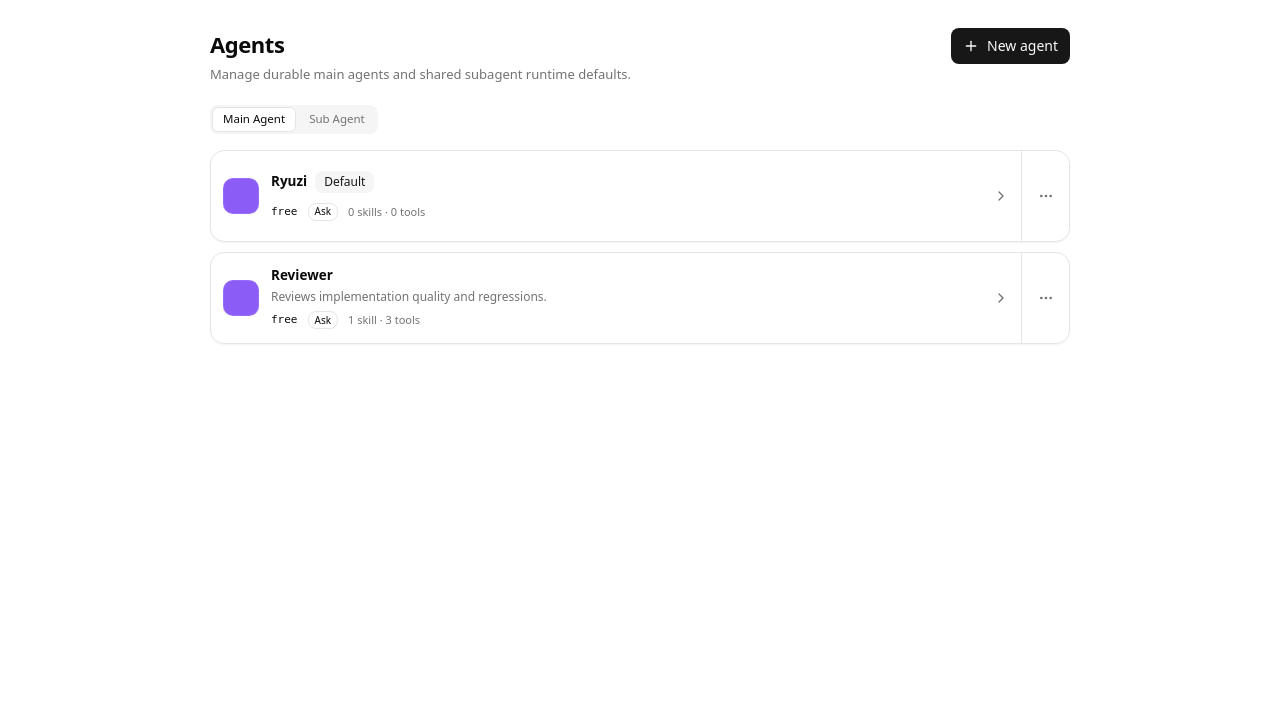
Test: shared concrete subagent model shows only its supported effort options
The image size is (1280, 720).
Click the button "Sub Agent": click(337, 119) x1=298 y1=106 x2=376 y2=132
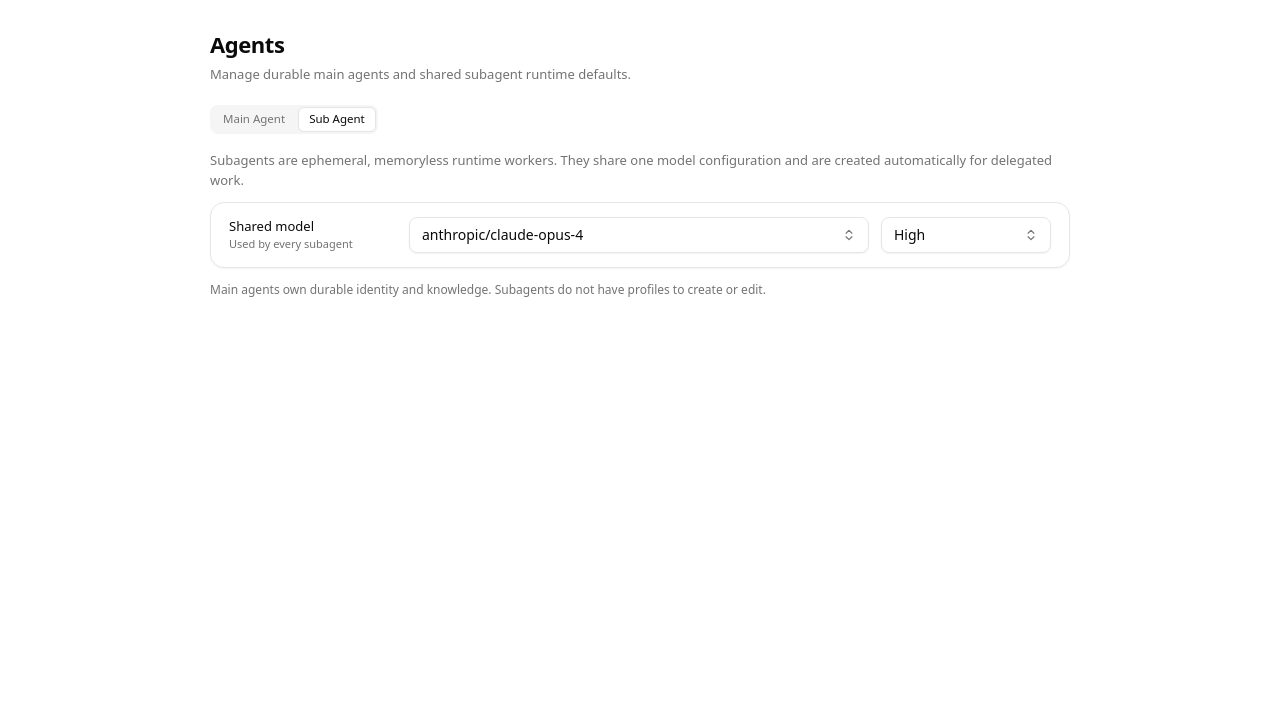
Click the dropdown named "Shared subagent effort": click(966, 234) x1=881 y1=216 x2=1051 y2=252
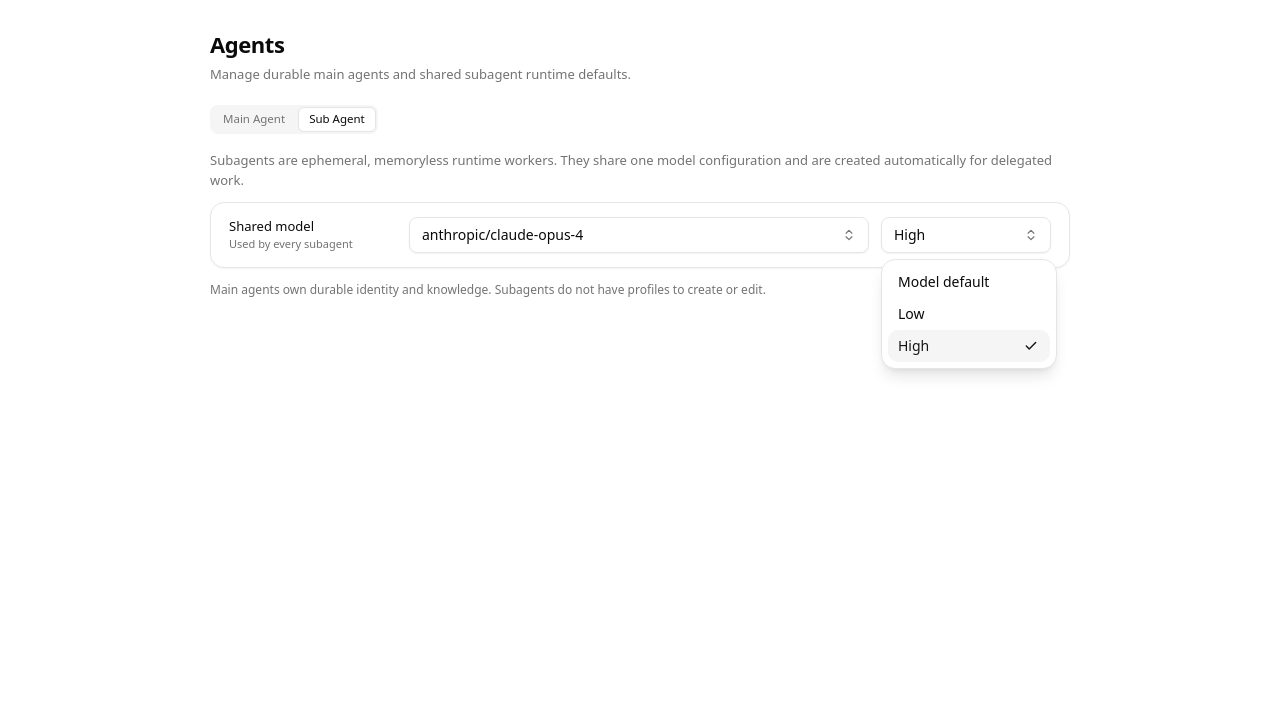
Now the option "Model default" is shown, box x1=898 y1=272 x2=989 y2=291
Now the option "Low" is shown, box x1=898 y1=304 x2=924 y2=323
Now the option "High" is shown, box x1=888 y1=330 x2=1050 y2=362
